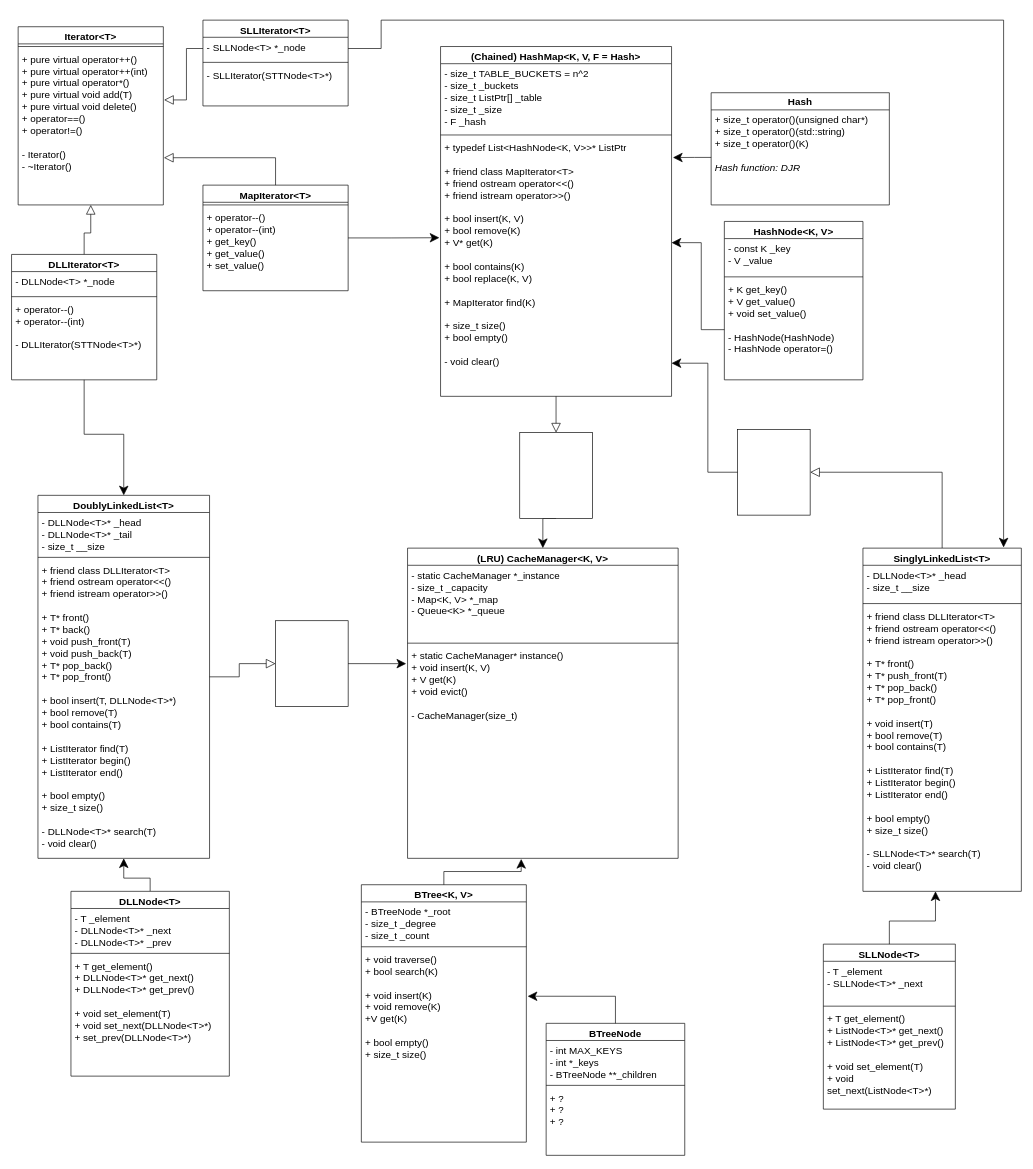
The diagram is 1033 pixels wide and 1169 high, and some of its shapes have lost their labels. The shapes that lost their labels are listed below. From the top down, each one's centre as x and y in pixels, then its label:
At point 555,475: "«interface» Map O(1)".
At point 773,472: "«interface» List O(1) insert".
At point 311,663: "«interface» (FIFO) Queue O(1) head/tail".
